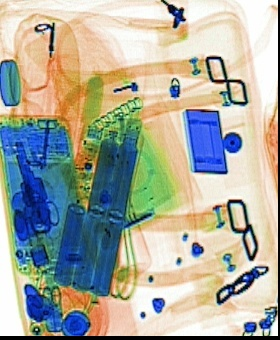powerbank: (52, 113, 143, 298)
